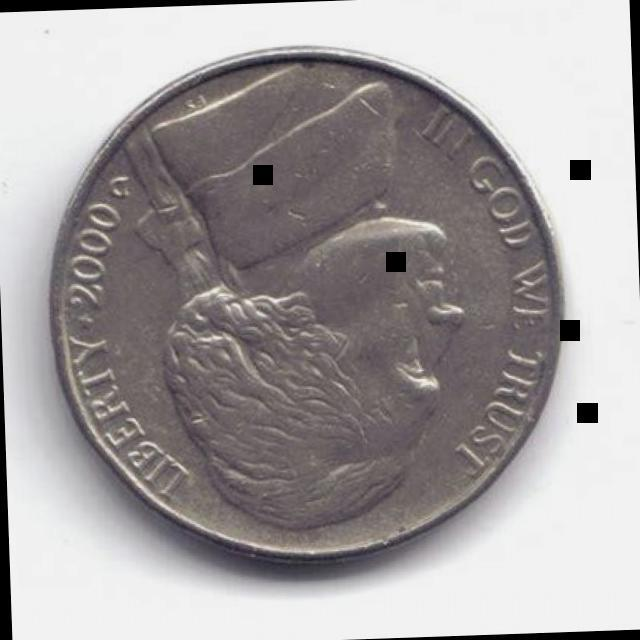Nickel: (33, 32, 572, 570)
